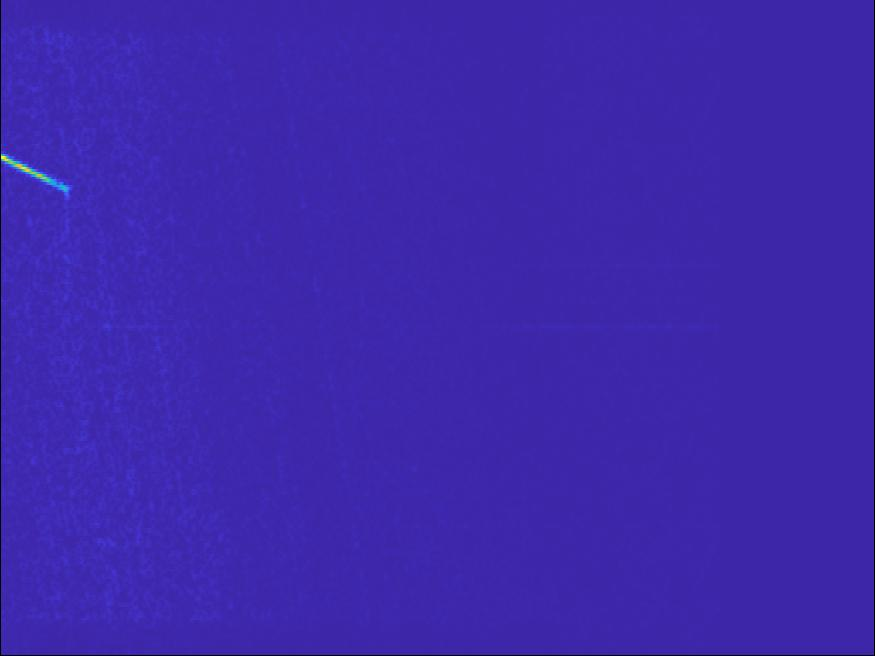Interference: (516, 297, 644, 367), (24, 307, 152, 344), (695, 304, 800, 344)
